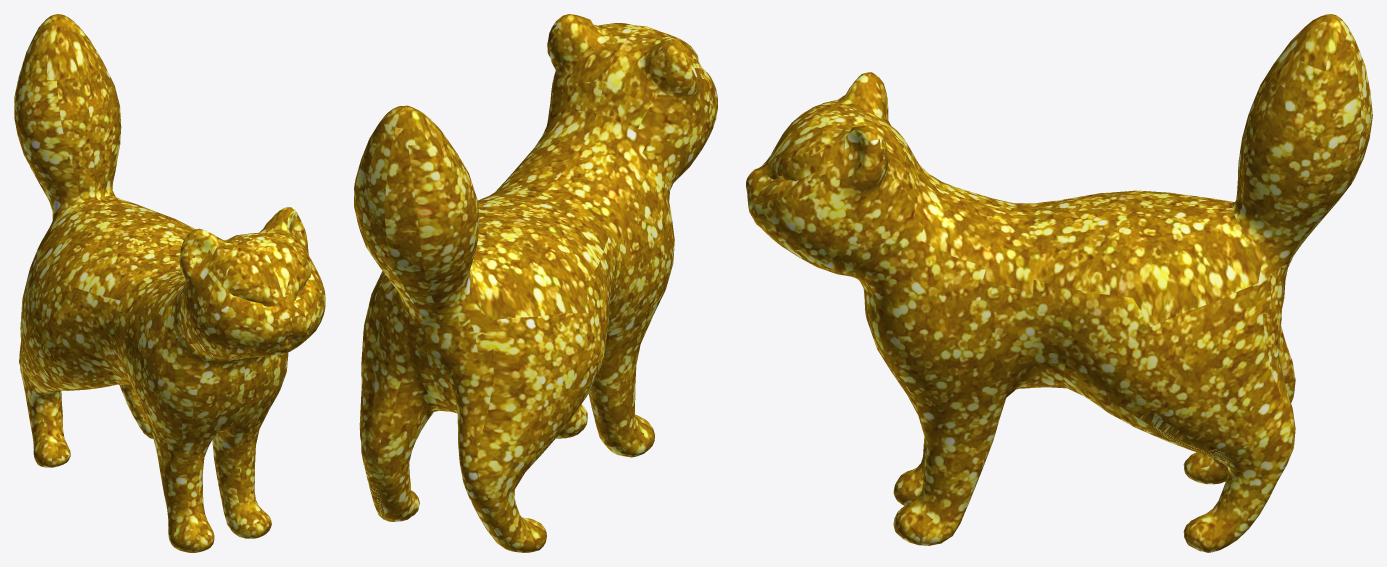
File: cat_fatty_3.fbx
The picture shows the model from 3 angles, left to right: view 1: azimuth 30°, elevation 25°; view 2: azimuth 150°, elevation 25°; view 3: azimuth 270°, elevation 25°; orthographic projection. The views are drawn at different scales.
Parts seen in each view (by area): view 1: cat_fatty; view 2: cat_fatty; view 3: cat_fatty.
Part boxes in pixels (left/top/right/bottom): cat_fatty: left=14, top=14, right=325, bottom=552; cat_fatty: left=354, top=14, right=717, bottom=552; cat_fatty: left=746, top=14, right=1372, bottom=552.
Size of the model in its own units: 0.3562 by 0.7478 by 0.8387.
1 material, 1 textured.
